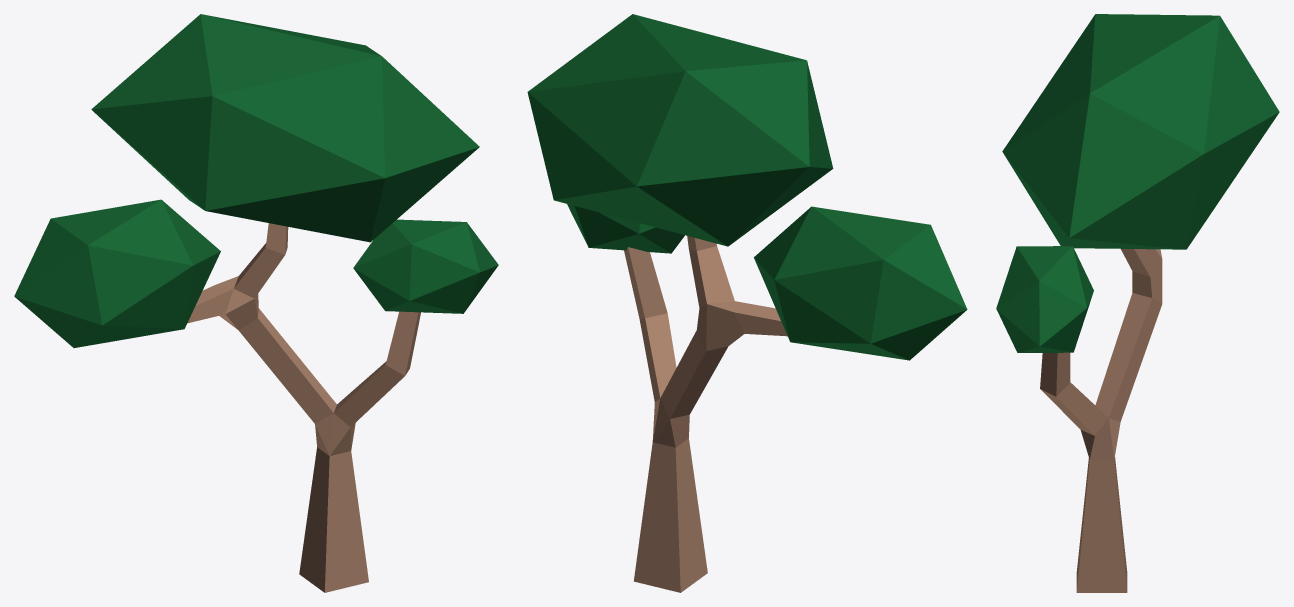
The model's file is Tree1_Model.fbx.
The picture shows the model from 3 angles, left to right: view 1: azimuth 30°, elevation 25°; view 2: azimuth 150°, elevation 25°; view 3: azimuth 270°, elevation 25°; orthographic projection. The views are drawn at different scales.
Visible parts, largest first — view 1: Tree_1; view 2: Tree_1; view 3: Tree_1.
Boxes of the visible parts, x1,y1,x2,y2 form: Tree_1: (14,14,498,592); Tree_1: (527,14,967,592); Tree_1: (996,14,1279,592).
Bounding box in the file's own units: 347 × 412 × 199.
